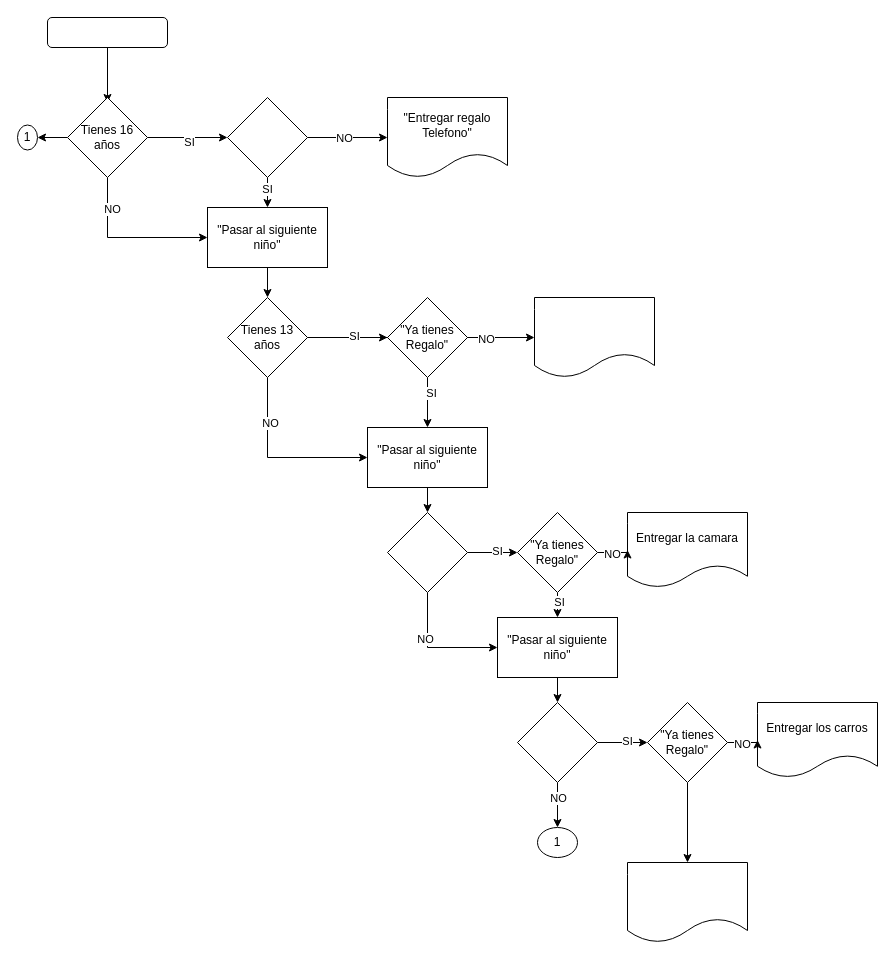
This 895x960 diagram has some shape labels left out. The centre of each missing label's shape, as x and y in pixels:
"Entregar la Tableta": point (594, 337)
"Fin": point (687, 902)
Iniciio: point (107, 32)
Tienes 10 años: point (427, 552)
Tienes 6 años: point (557, 742)
Ya tienes regalo: point (267, 137)
